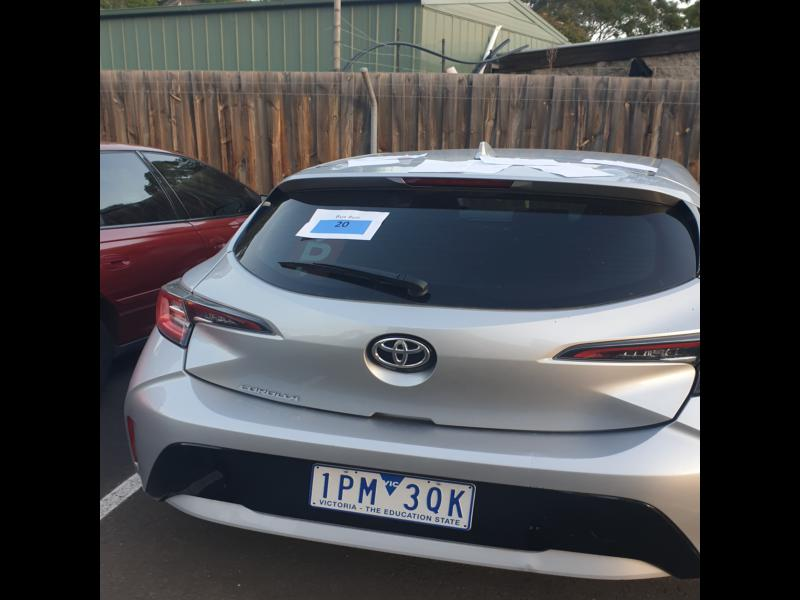BusRun: (307, 217, 374, 237)
PlateNo: (309, 462, 476, 532)
